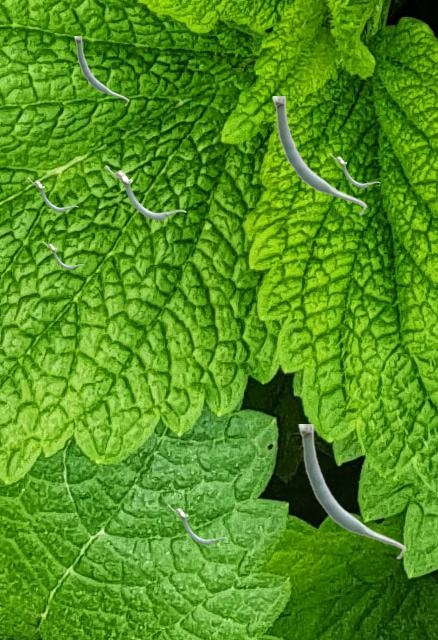french_bean: (298, 424, 405, 559), (272, 96, 366, 215), (104, 165, 185, 221), (74, 36, 128, 105), (167, 504, 226, 545), (27, 177, 77, 212), (329, 153, 379, 188), (42, 241, 83, 269)
